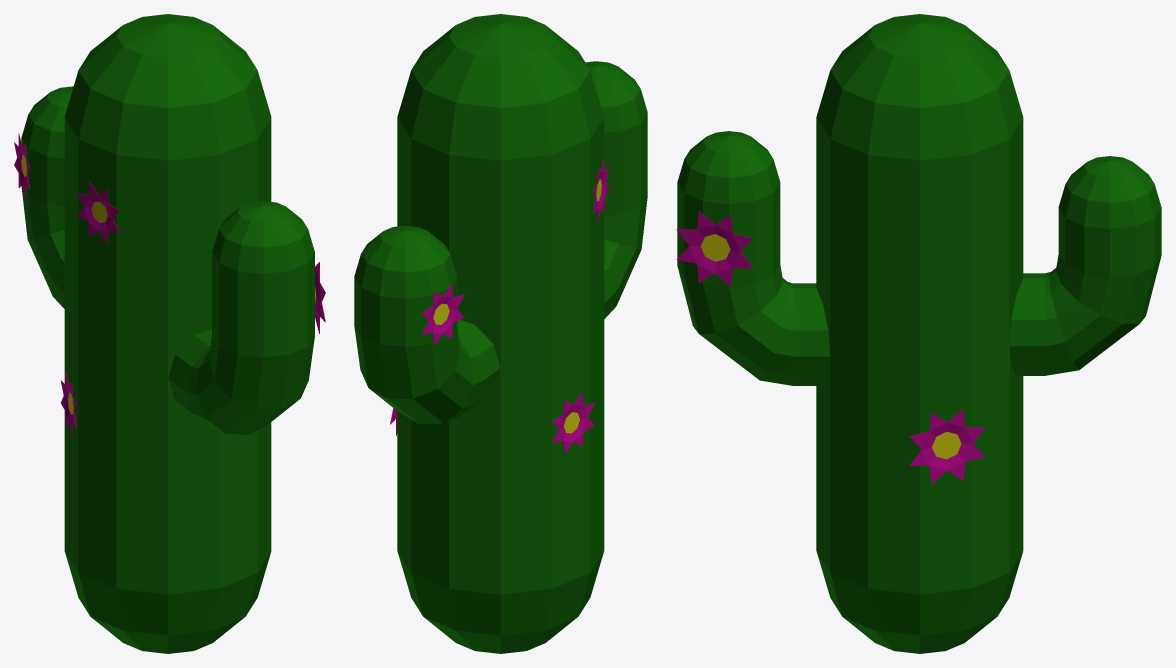
Rendered from cactus middel.fbx.
3 views of the same model, side by side, from view 1: azimuth 30°, elevation 25°; view 2: azimuth 150°, elevation 25°; view 3: azimuth 270°, elevation 25° (orthographic).
Parts seen in each view (by area): view 1: cactus middel; view 2: cactus middel; view 3: cactus middel.
Part boxes in pixels (box(x1,y1,x2,y2)): cactus middel: box(14, 14, 325, 653); cactus middel: box(354, 14, 647, 653); cactus middel: box(676, 14, 1161, 653).
Size of the model in its own units: 0.4122 by 1.27 by 0.9182.
